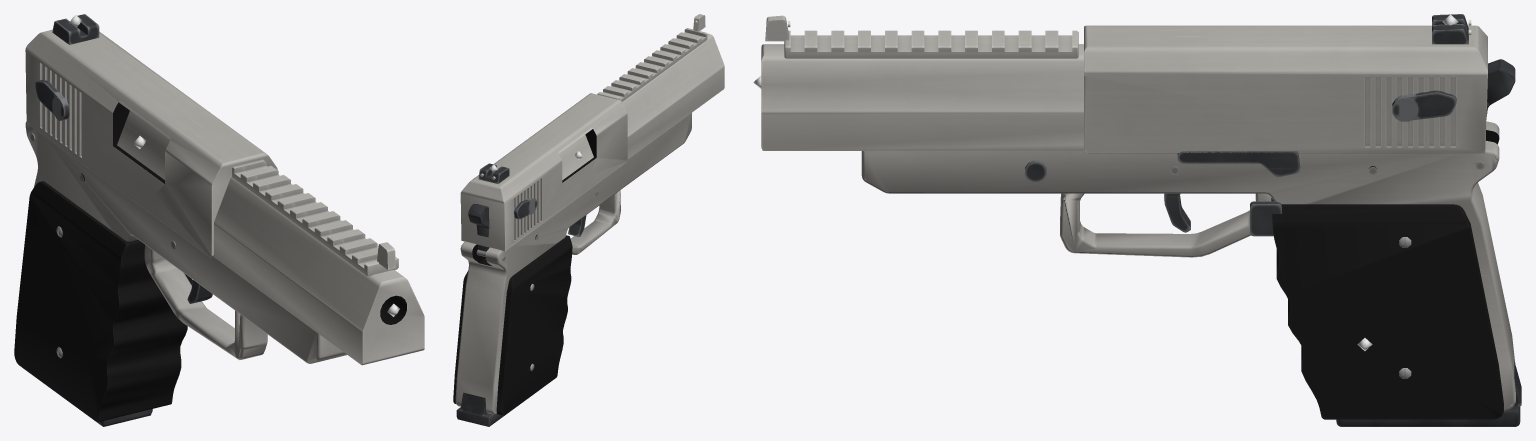
File: HeavyPistol_A_DesertEagle.fbx
3 renders of one model, left to right at view 1: azimuth 30°, elevation 25°; view 2: azimuth 150°, elevation 25°; view 3: azimuth 270°, elevation 25°, orthographic. The views are drawn at different scales.
Parts seen in each view (by area): view 1: Handle, Slide; view 2: Handle, Slide, Magazine; view 3: Handle, Slide, Magazine.
Part boxes in pixels (left/top/right/bottom): Handle: left=14, top=111, right=424, bottom=422; Slide: left=25, top=14, right=277, bottom=257; Handle: left=453, top=14, right=724, bottom=415; Slide: left=460, top=93, right=627, bottom=251; Magazine: left=456, top=258, right=504, bottom=426; Handle: left=761, top=15, right=1515, bottom=419; Slide: left=1084, top=14, right=1487, bottom=153; Magazine: left=1336, top=361, right=1521, bottom=426.
Bounding box in the file's own units: 0.1488 × 0.644 × 1.12.
2 materials, 1 textured.
